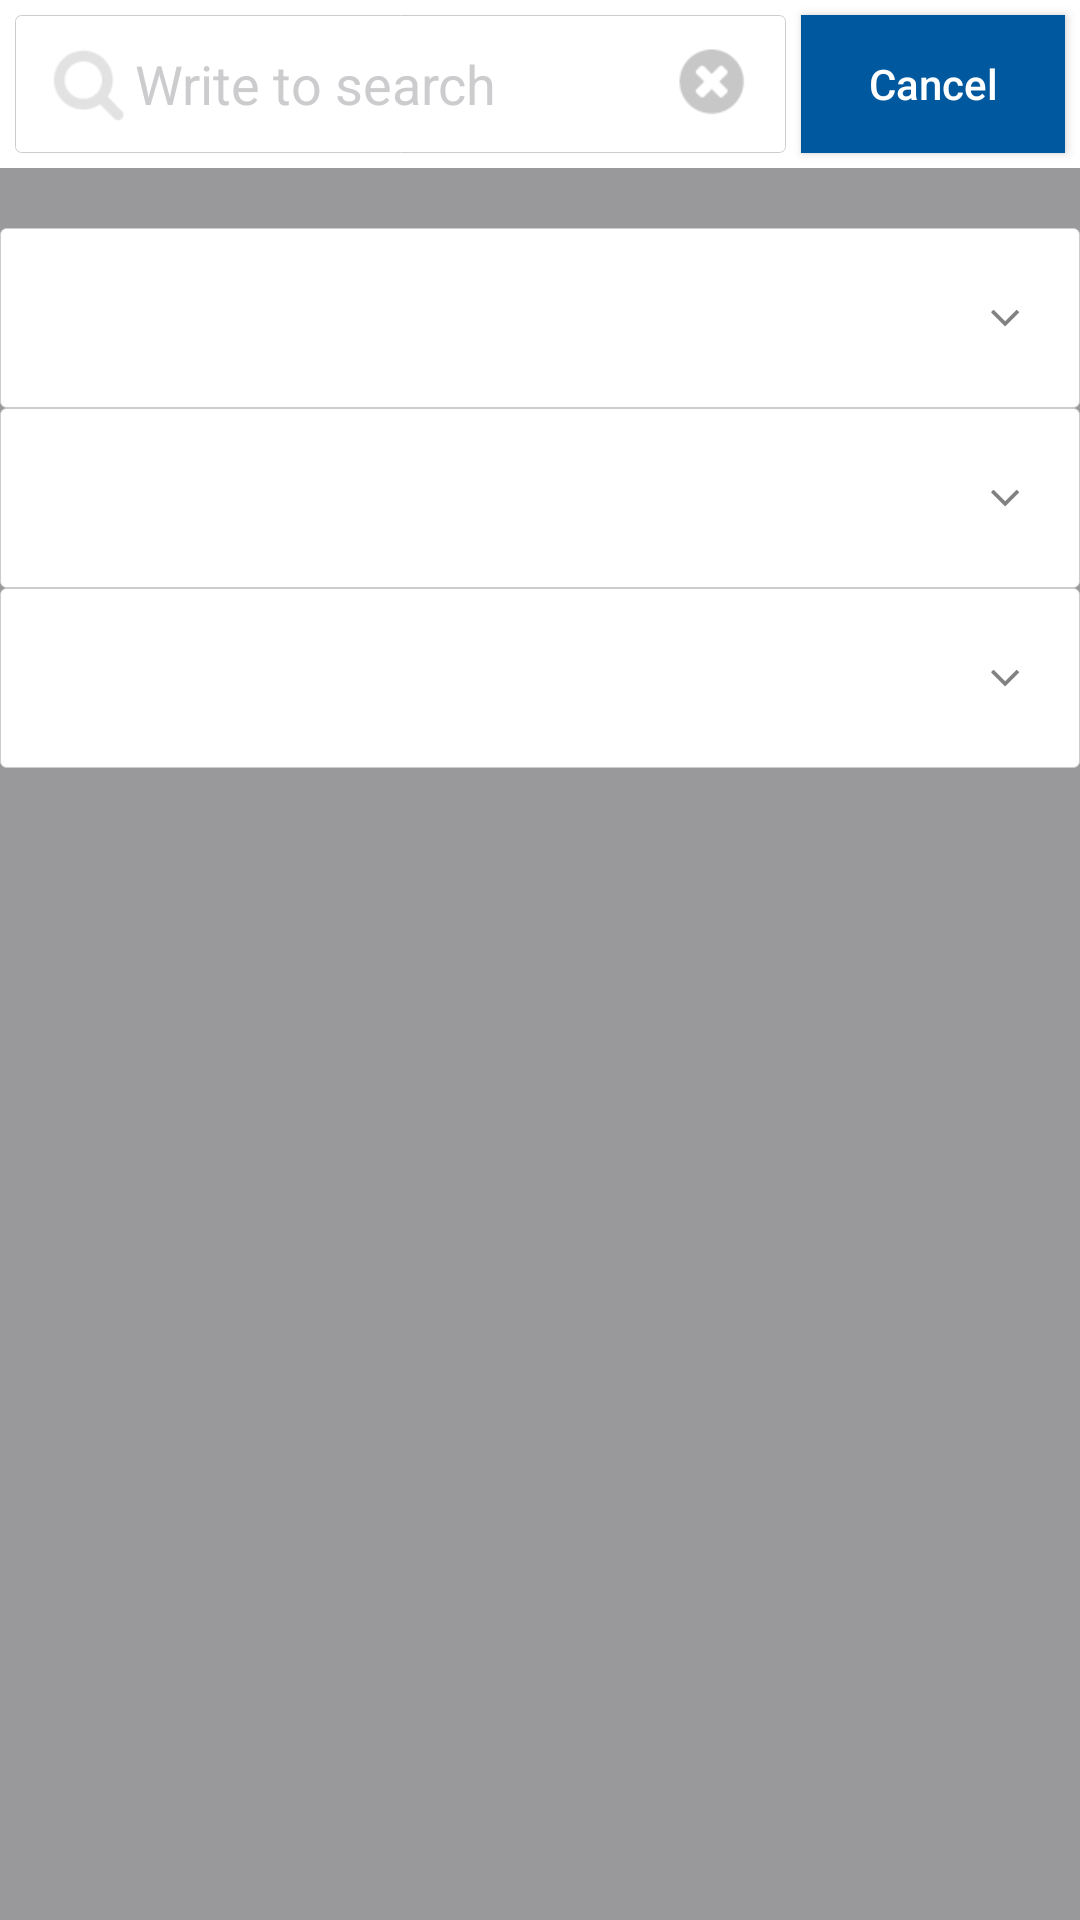

Screen size 1080 x 1920. Icon name, then its center in pixels as (x=x, y=y):
arrow down: (x=1005, y=318), (x=1005, y=498), (x=1005, y=678)
remove text: (x=711, y=81)
